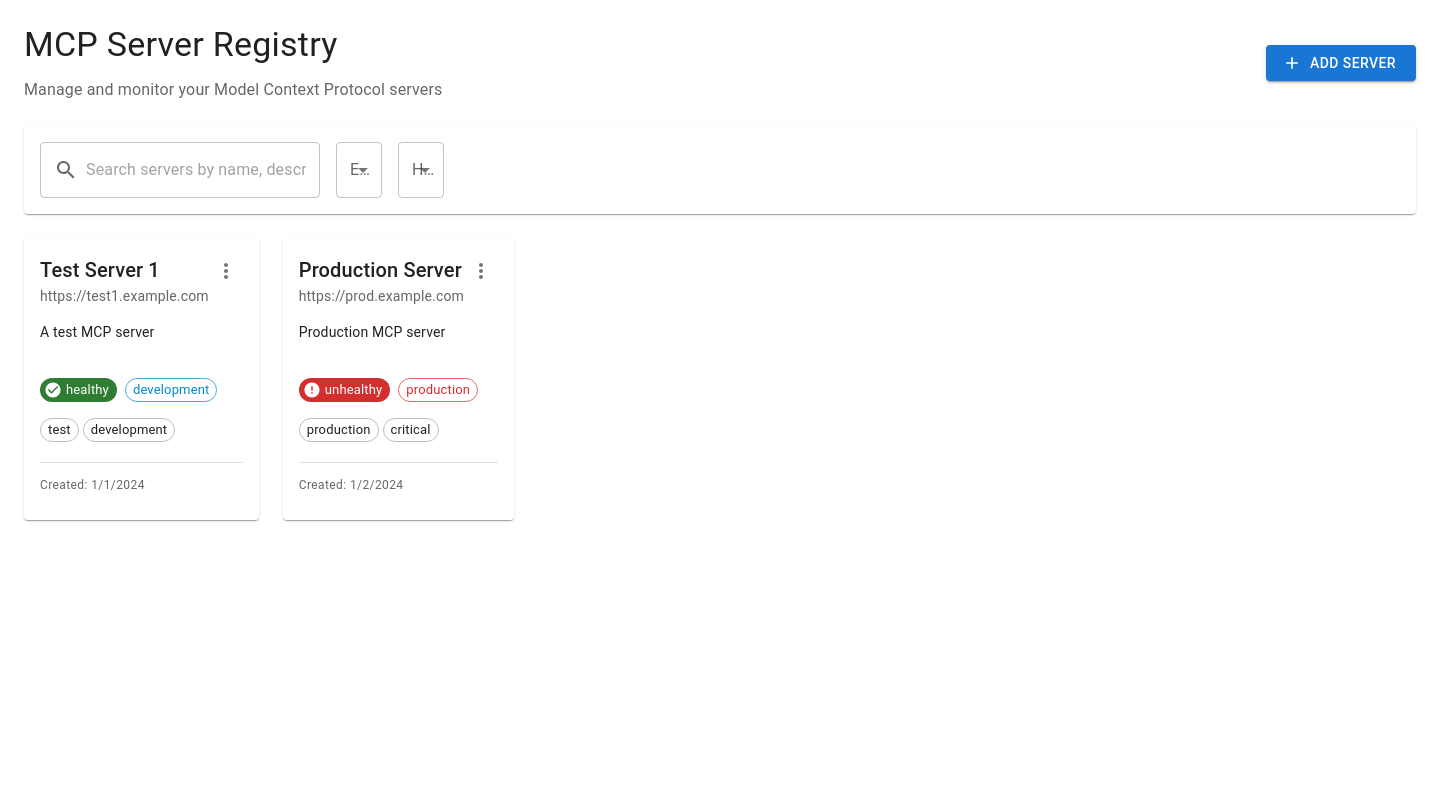
RegistryPage › should open edit dialog when server menu is clicked
Check: the heading "Test Server 1" is shown, box 40,258 -> 160,282
Click the button without text next to "Test Server 1".
click(226, 271)  # box 209,254 -> 243,288
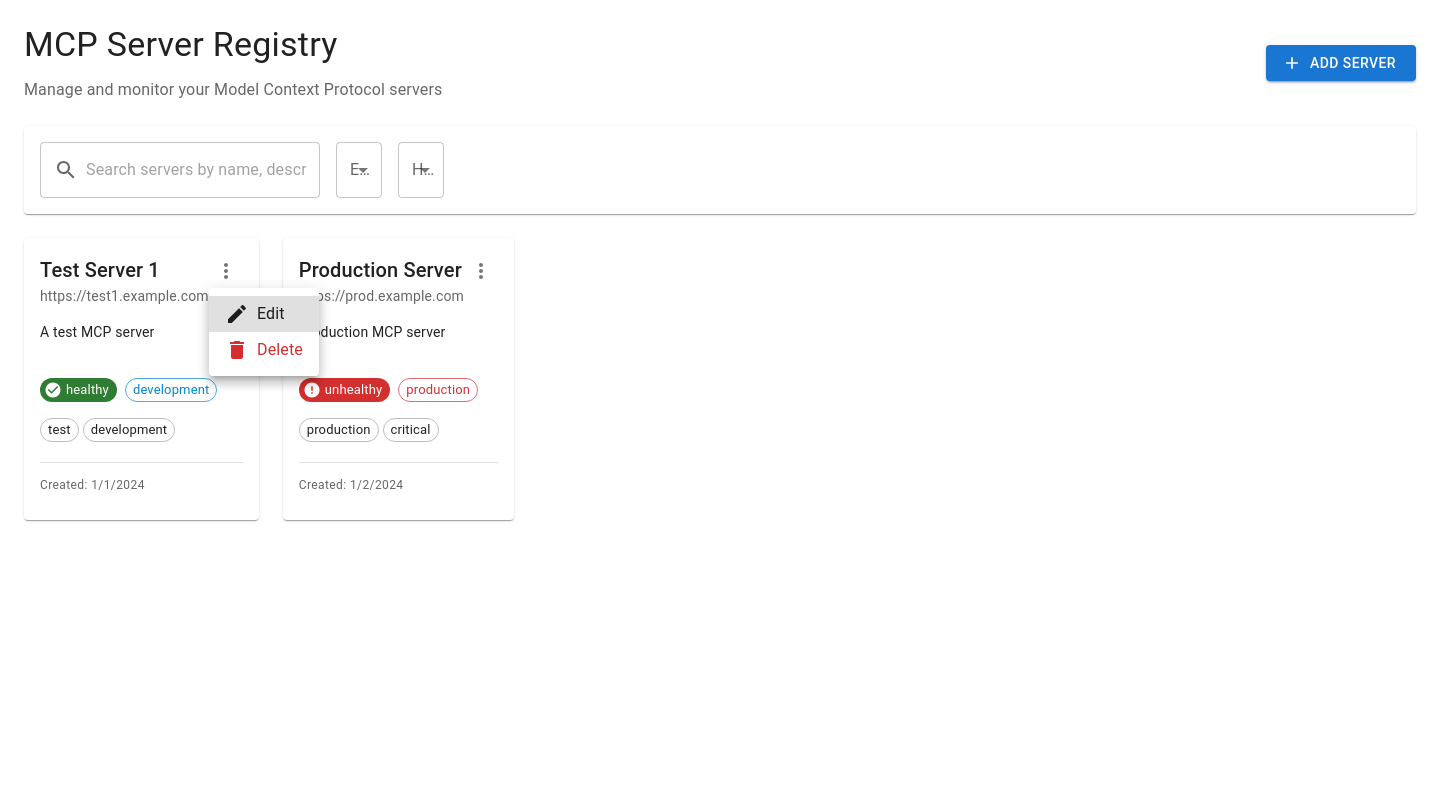
// Click edit option
Click the menu item "Edit".
click(264, 314)  # box 209,296 -> 319,332
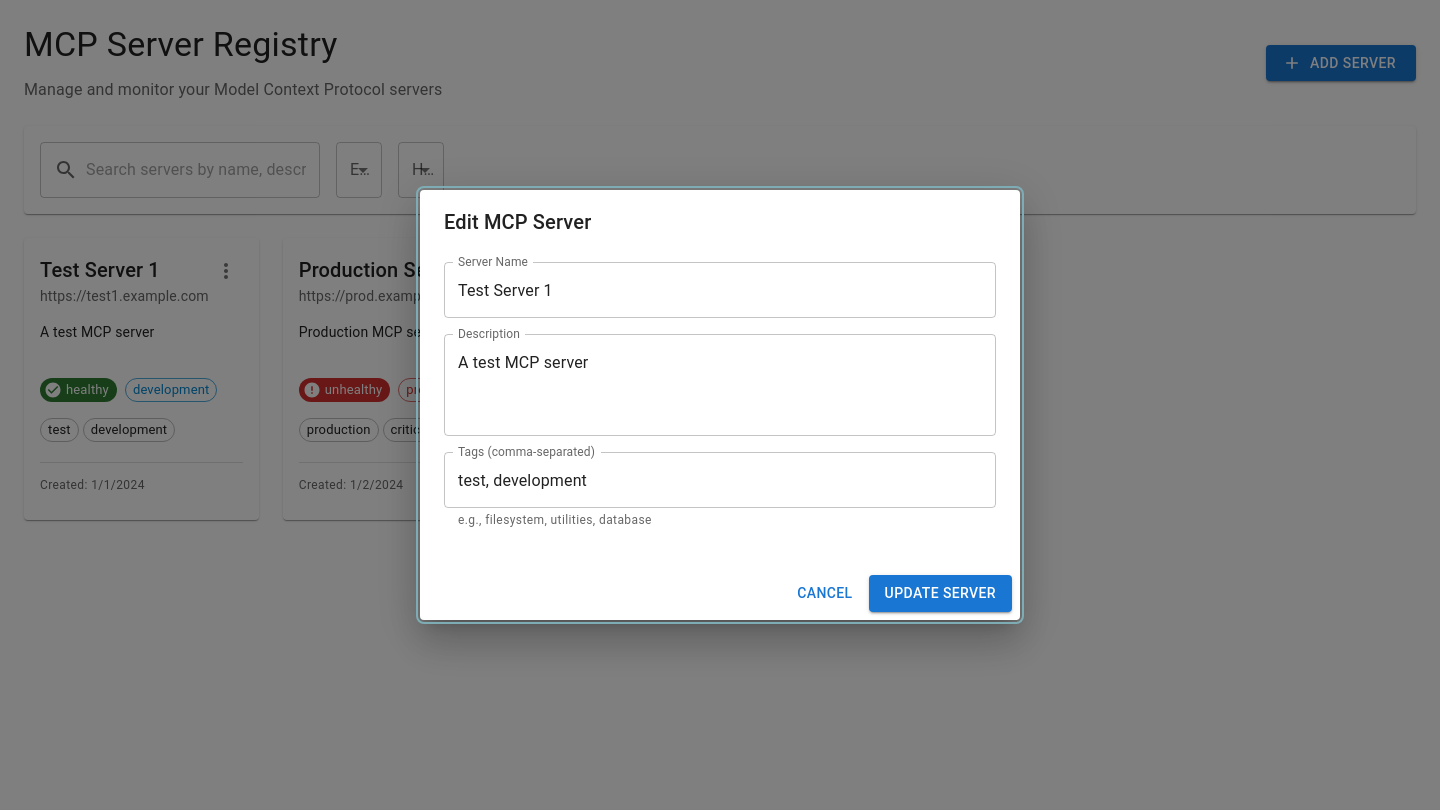
Check: the heading "Edit MCP Server" is shown, box 444,210 -> 591,234
Check: the field showing "Test Server 1" is shown, box 444,262 -> 996,318
